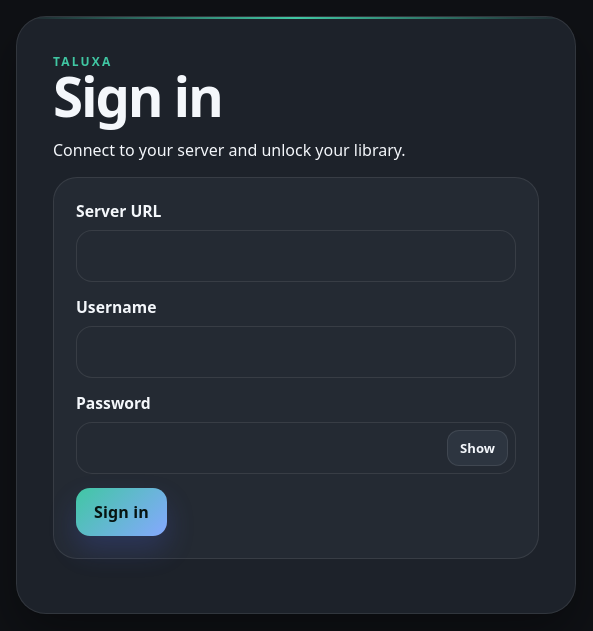
Test case: LoginPage › toggles password visibility without changing the password value
This screenshot has width=593, height=631.
Type "secret" into the password field labelled "Password". click: (296, 448)
box: [76,422,516,474]
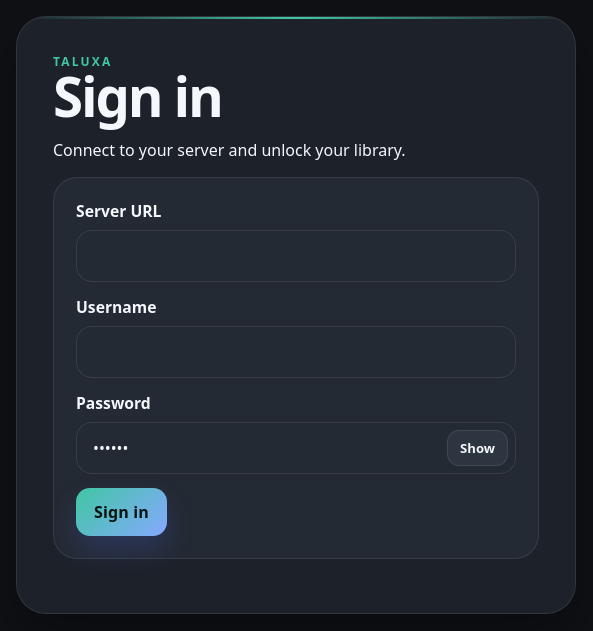
Click the button with aria-label "Show password". click: (478, 448)
box: [447,430,508,466]
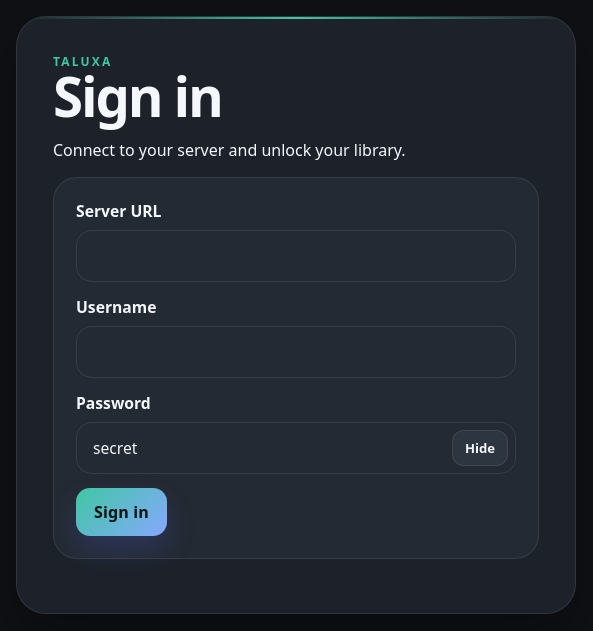
expect the field labelled "Password" shows its text: met, box [76,422,516,474]
expect the button with aria-label "Hide password" is shown: met
Click the button with aria-label "Hide password". click: (480, 448)
box: [452,430,508,466]
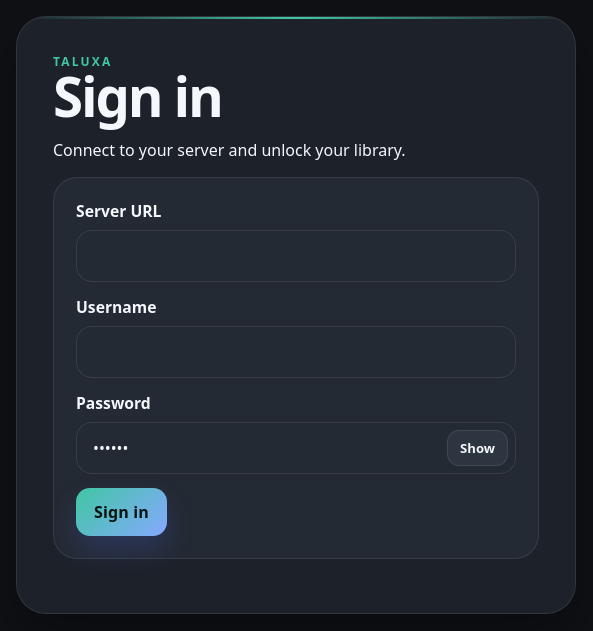
expect the password field labelled "Password" hides its text: met, box [76,422,516,474]
